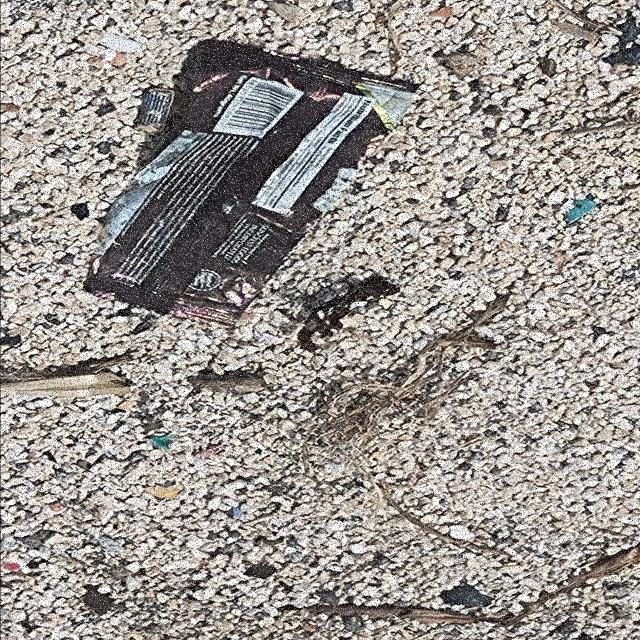plastic_waste: (82, 40, 425, 332)
